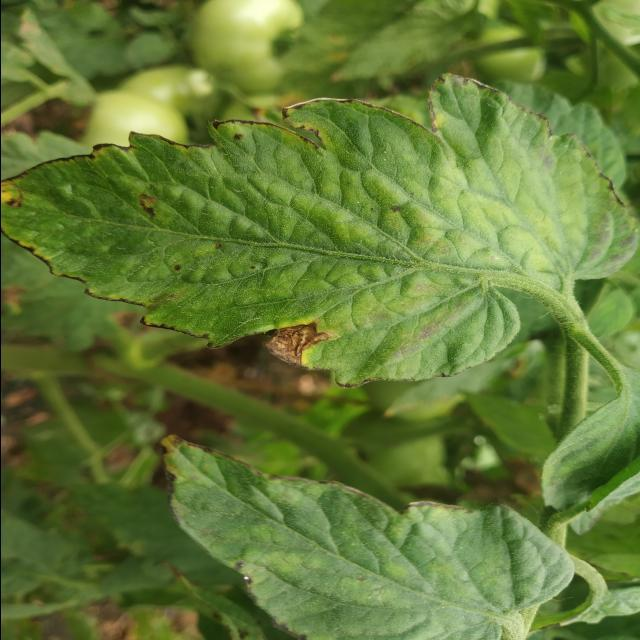Tomato mosaic virus leaf: (0, 94, 362, 370), (150, 426, 248, 549)
